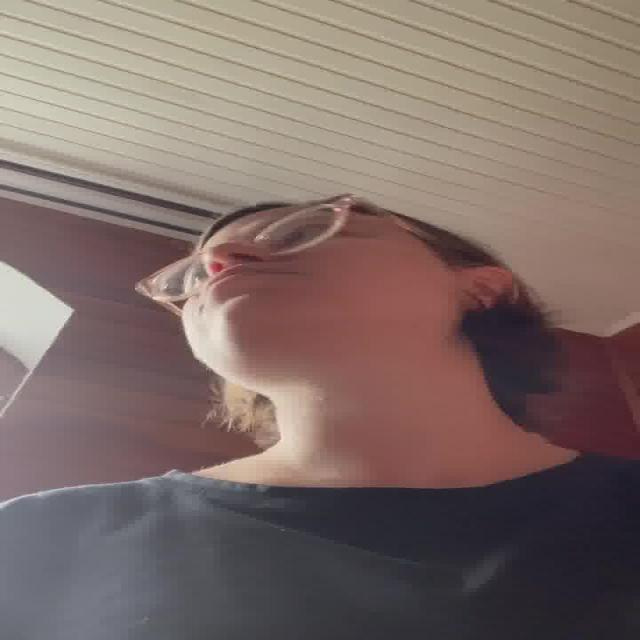earlobe: (454, 266, 516, 312)
